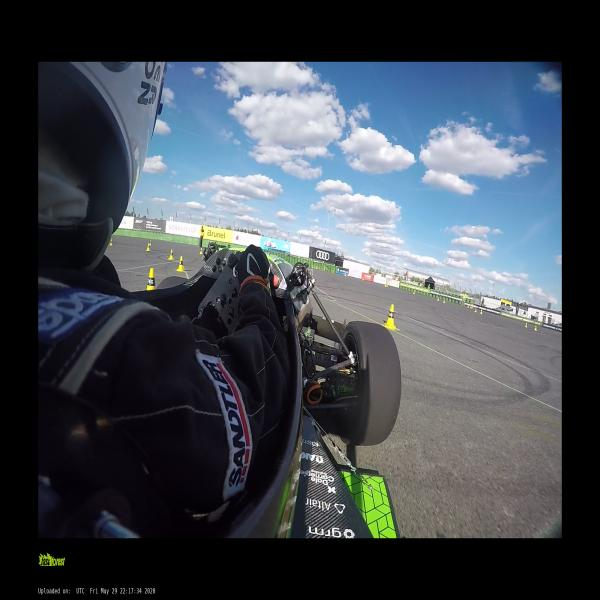yellow_cone: (384, 304, 397, 330), (146, 268, 156, 290), (176, 255, 186, 272), (168, 249, 175, 259), (145, 244, 150, 251), (108, 238, 112, 246), (199, 248, 202, 255), (479, 309, 483, 314), (534, 325, 537, 331), (474, 307, 477, 312), (443, 298, 445, 304), (525, 322, 527, 327), (413, 290, 415, 294), (332, 269, 334, 273), (323, 268, 325, 272), (438, 297, 439, 301), (470, 306, 471, 308)
